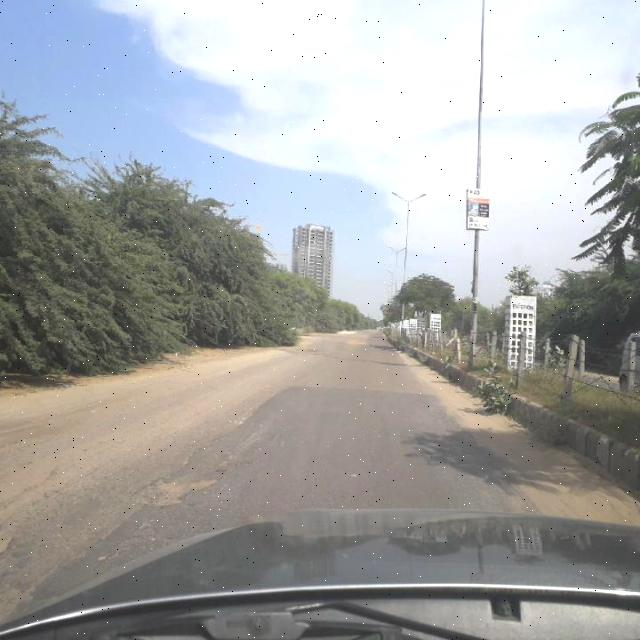D00: (140, 398, 276, 489)
D40: (0, 447, 60, 558), (126, 466, 232, 516), (100, 522, 178, 578), (0, 566, 45, 622)
